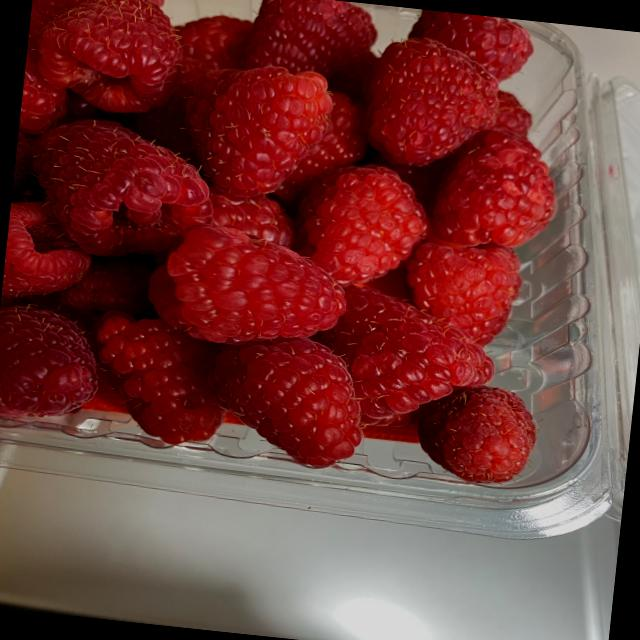raspberries: (5, 0, 603, 500)
